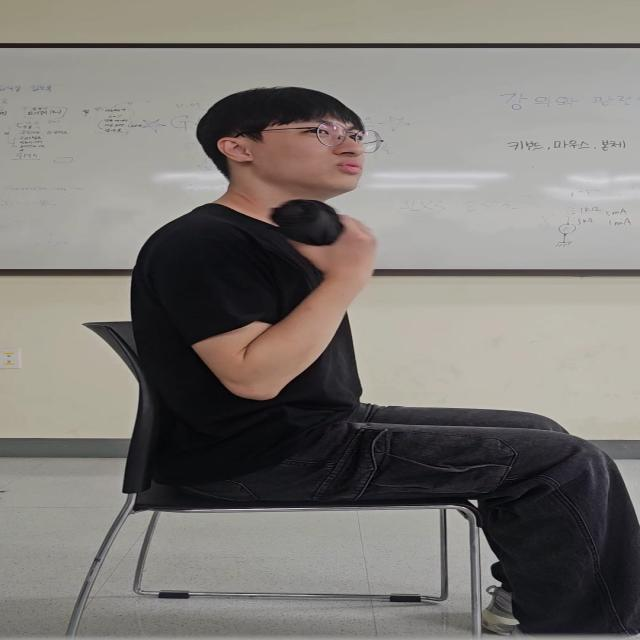curl: (166, 212, 381, 408)
